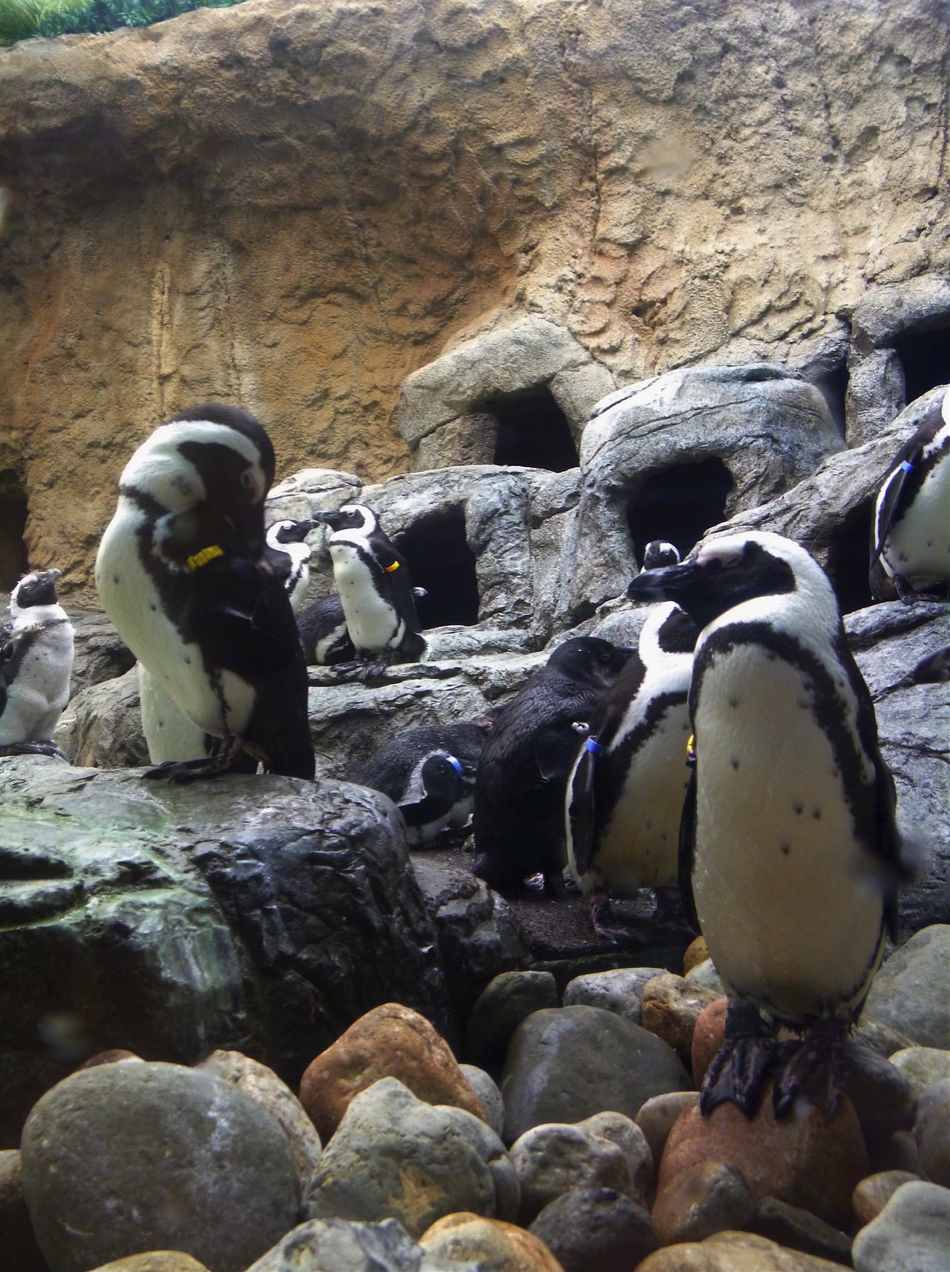penguin: (629, 530, 922, 1113), (87, 406, 320, 785)
